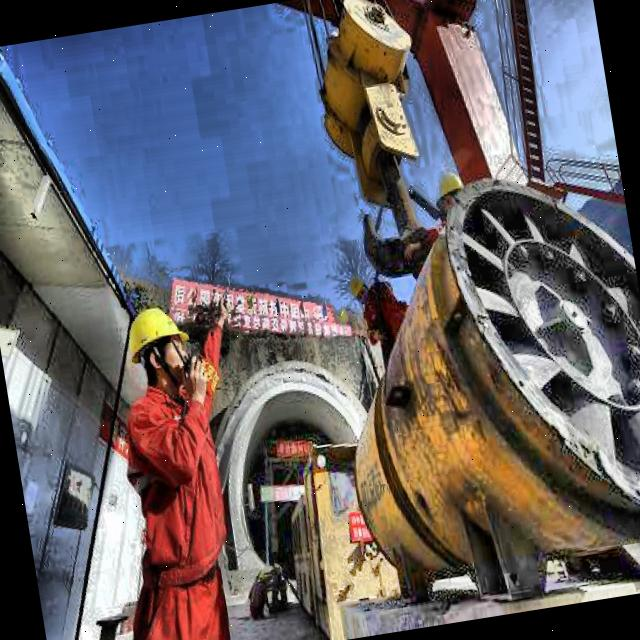helmet: (118, 296, 198, 403), (432, 168, 472, 226), (346, 271, 372, 306)
